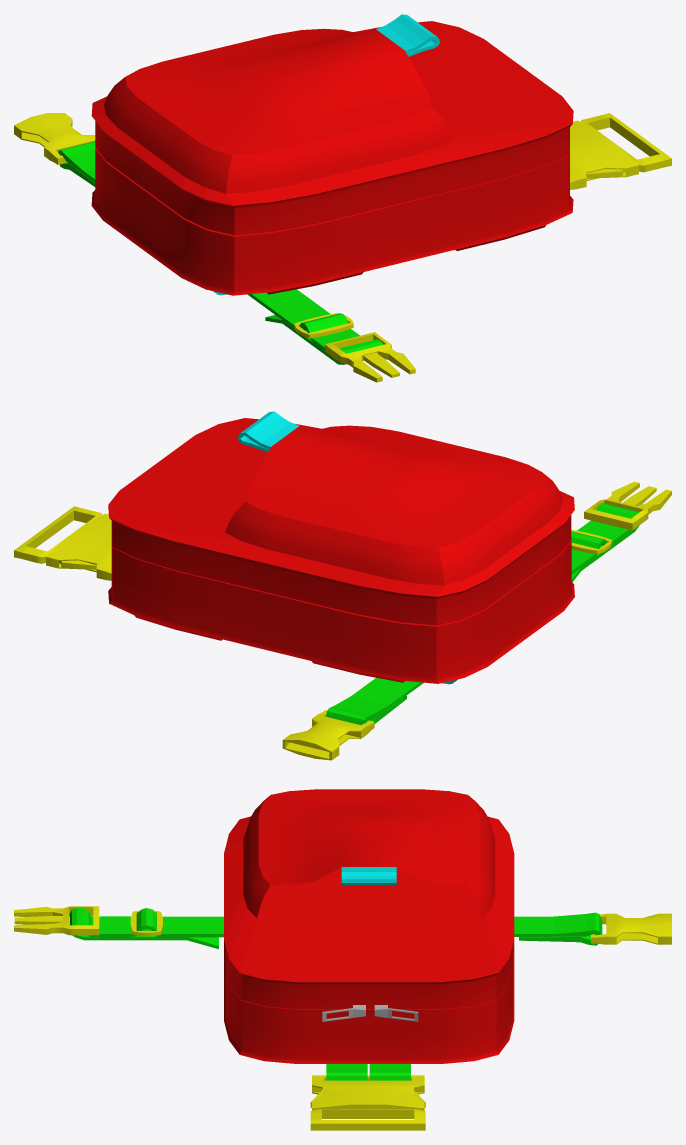
Rendered from medic pouch idle.fbx.
3 views of the same model, one above another, from view 1: azimuth 30°, elevation 25°; view 2: azimuth 150°, elevation 25°; view 3: azimuth 270°, elevation 25° (orthographic). The views are drawn at different scales.
Parts seen in each view (by area): view 1: polySurface157, polySurface152; view 2: polySurface157, polySurface152; view 3: polySurface157, polySurface152.
Boxes of the visible parts, box(x1,y1,x2,y2) form: polySurface157: box(91, 14, 573, 235); polySurface152: box(14, 113, 671, 382); polySurface157: box(108, 411, 574, 625); polySurface152: box(14, 481, 671, 760); polySurface157: box(224, 789, 514, 1009); polySurface152: box(14, 906, 671, 1130).
Size of the model in its own units: 0.5023 by 0.1725 by 0.6237.
